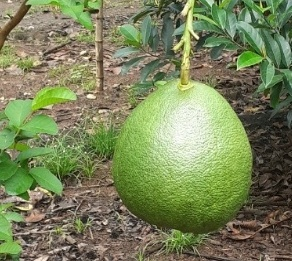Buoi: (93, 70, 259, 239)
